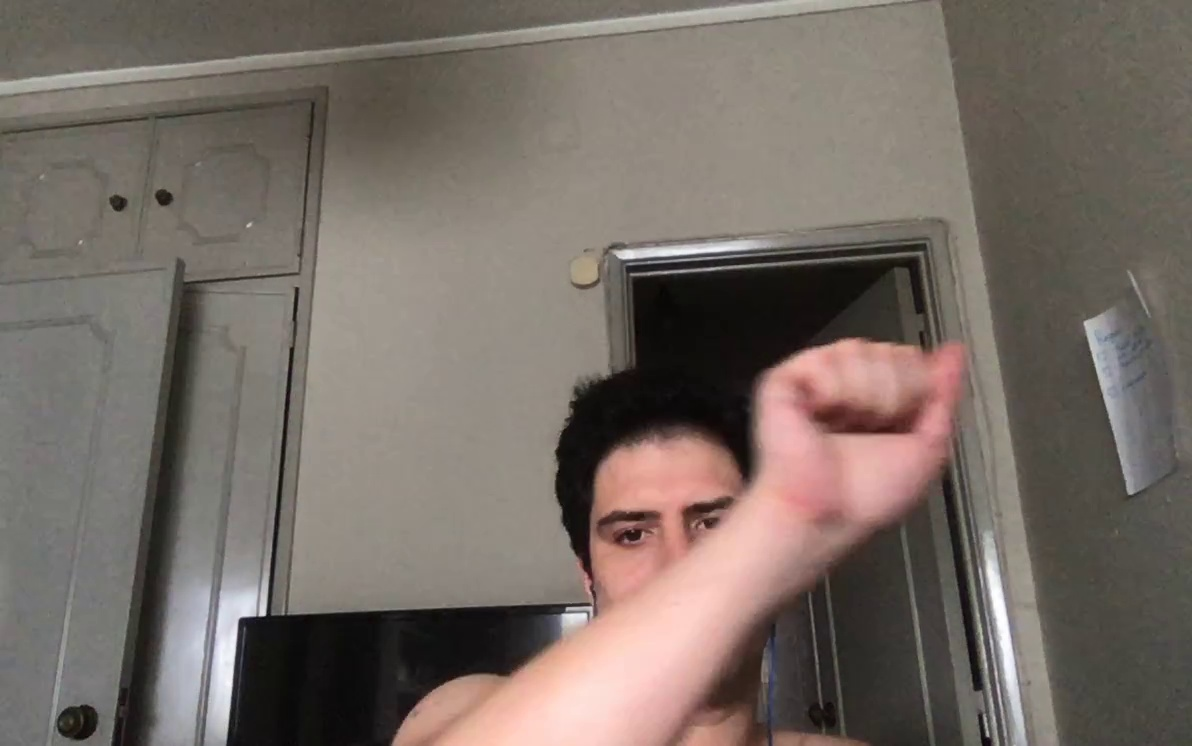a: (723, 309, 994, 544)
